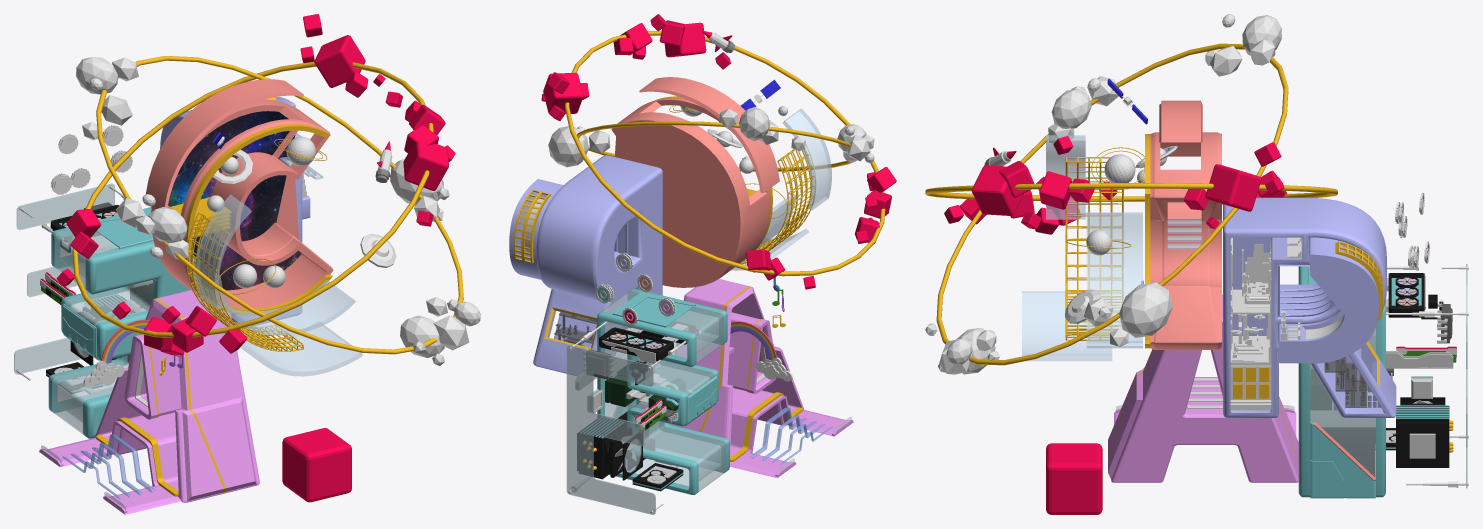
The model's file is crea_house01.fbx.
The picture shows the model from 3 angles, left to right: view 1: azimuth 30°, elevation 25°; view 2: azimuth 150°, elevation 25°; view 3: azimuth 270°, elevation 25°; orthographic projection. The views are drawn at different scales.
Visible parts, largest first — view 1: Text.005, Text.001, Text.004, Text.031, Text.011, Text.008, Torus.002, Text.010, Cube.013, Torus.001, Text.024, Text.022 (+29 smaller); view 2: Text.002, Text.001, Text.005, Text.004, Text.010, Text.011, Torus.002, Text.008, Text.003, Cube.183, Text.022, Text.023 (+23 smaller); view 3: Text.002, Text.005, Text.001, Text.003, Text.007, Cube.013, Text.024, Torus.001, Cube.183, Text.022, Text.004, Text.013 (+22 smaller).
Part boxes in pixels (x1,y1,x2,y2): Text.005: [39, 290, 259, 514]; Text.001: [151, 99, 333, 308]; Text.004: [48, 207, 190, 438]; Text.031: [168, 111, 301, 290]; Text.011: [52, 210, 153, 434]; Text.008: [145, 79, 303, 207]; Torus.002: [72, 61, 433, 337]; Text.010: [14, 183, 114, 374]; Cube.013: [282, 428, 351, 502]; Torus.001: [96, 56, 463, 354]; Text.024: [221, 321, 362, 376]; Text.022: [186, 212, 303, 351]; Text.002: [533, 155, 662, 375]; Text.001: [611, 98, 770, 287]; Text.005: [669, 279, 853, 478]; Text.004: [597, 288, 729, 494]; Text.010: [566, 345, 655, 514]; Text.011: [602, 291, 726, 491]; Torus.002: [565, 30, 885, 276]; Text.008: [639, 77, 779, 193]; Text.003: [509, 179, 563, 279]; Cube.183: [577, 416, 629, 479]; Text.022: [740, 144, 815, 264]; Text.023: [783, 108, 831, 210]; Text.002: [1223, 197, 1396, 417]; Text.005: [1108, 294, 1298, 482]; Text.001: [1150, 132, 1221, 349]; Text.003: [1278, 239, 1382, 363]; Text.007: [1086, 212, 1142, 348]; Cube.013: [1046, 443, 1102, 514]; Text.024: [1022, 291, 1112, 361]; Torus.001: [936, 43, 1288, 365]; Cube.183: [1396, 404, 1453, 467]; Text.022: [1065, 157, 1123, 340]; Text.004: [1298, 266, 1385, 497]; Text.013: [1310, 422, 1375, 498].
Size of the model in its own units: 1267 by 1402 by 1645.
Materials: 27 (1 with a texture image).
